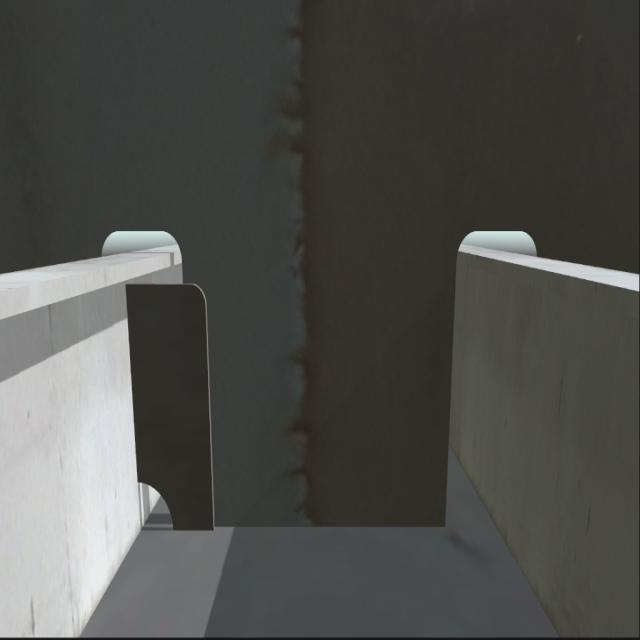fillet_hole: (140, 478, 178, 532)
fillet_yong_jeop_jang: (169, 513, 450, 539)
longi_yong_jeop_jang: (122, 281, 140, 483)
plate_CP05: (132, 284, 210, 534)
